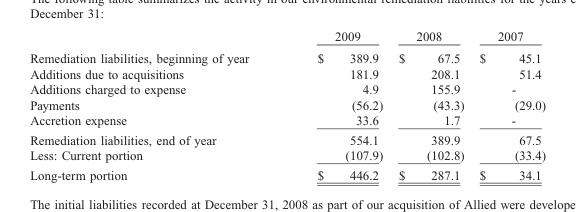table: (29, 29, 545, 181)
table column: (29, 29, 282, 181), (282, 29, 390, 181), (390, 29, 471, 181), (471, 29, 545, 181)
table column header: (29, 29, 545, 47)
table row: (29, 29, 545, 47), (29, 47, 545, 65), (29, 129, 545, 147), (29, 112, 545, 129), (29, 147, 545, 164), (29, 164, 545, 181), (29, 65, 545, 81), (29, 96, 545, 112), (29, 81, 545, 96)
